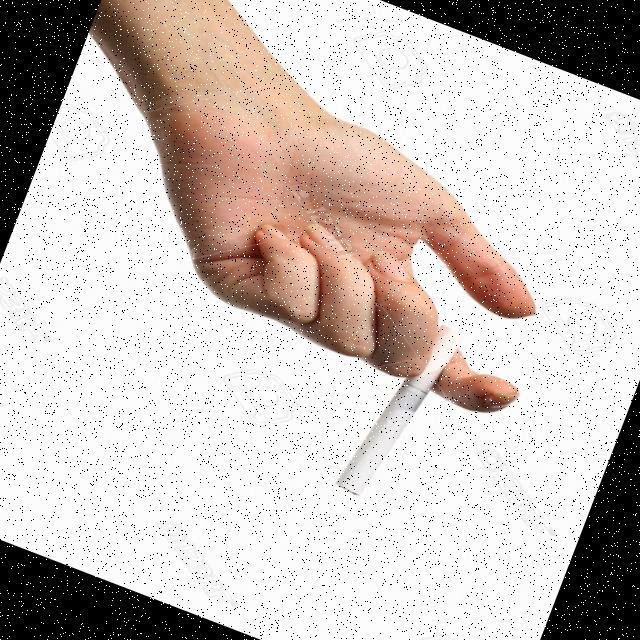cigarette: (332, 306, 471, 514)
